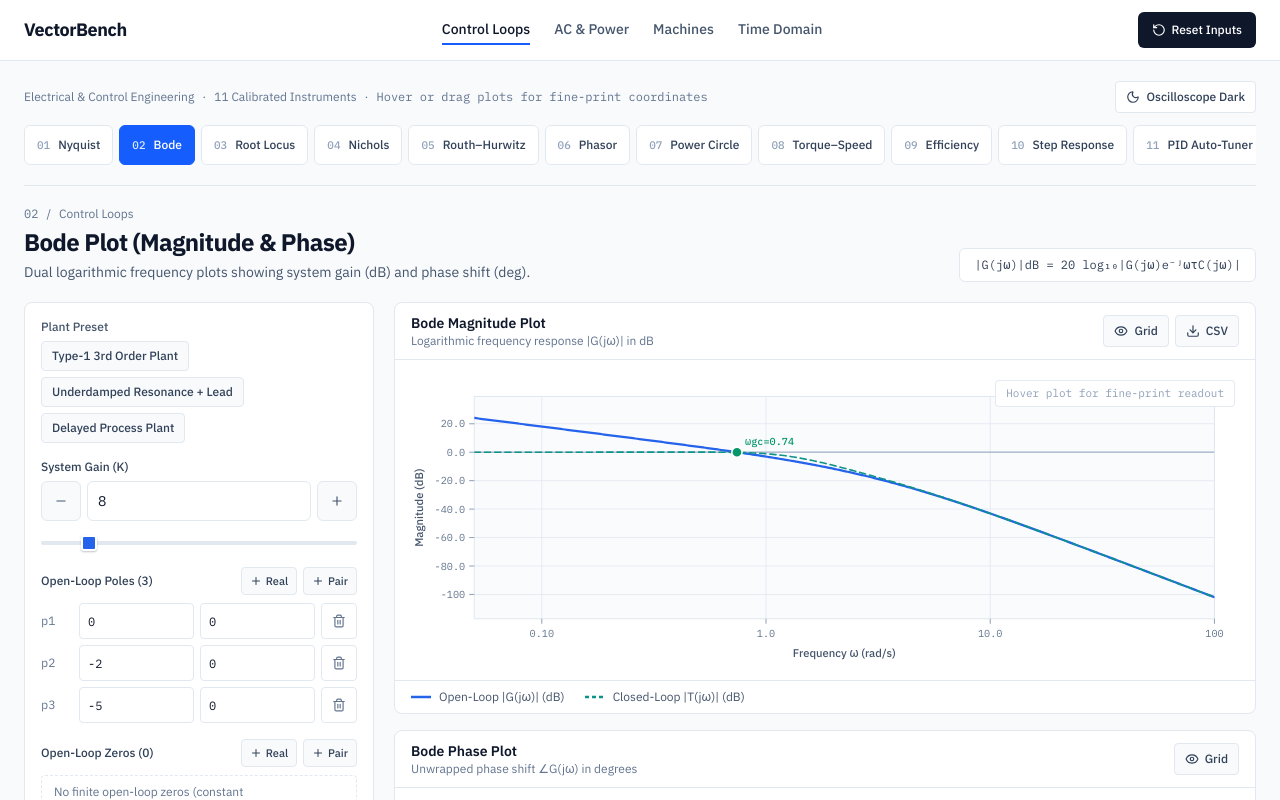
Test: VectorBench Engineering Workbench Integration › shows explicit error banner on invalid adversarial inputs without crashing (Red Pill)
# Default active is Bode Plot: set Gain K to -10
Replace the text in the number field labelled "System Gain (K)" with "-10" at (199, 501), box top-left (87, 481), bottom-right (311, 521)
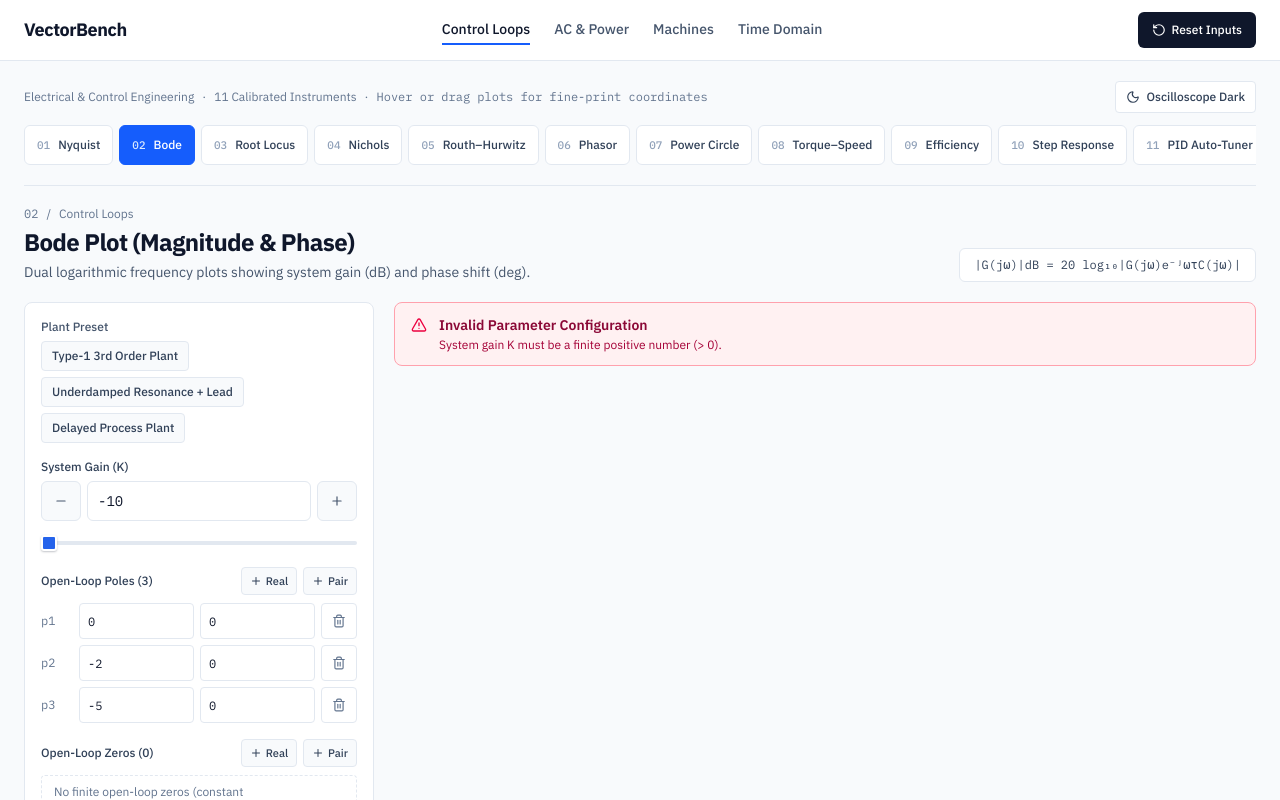
Expected: the message is shown, top-left (394, 302), bottom-right (1256, 366)
Expected: the message shows "positive", top-left (439, 337), bottom-right (722, 352)
# Reset Inputs button restores valid state
Click the button "Reset Inputs" at (1197, 30), box top-left (1138, 12), bottom-right (1256, 48)
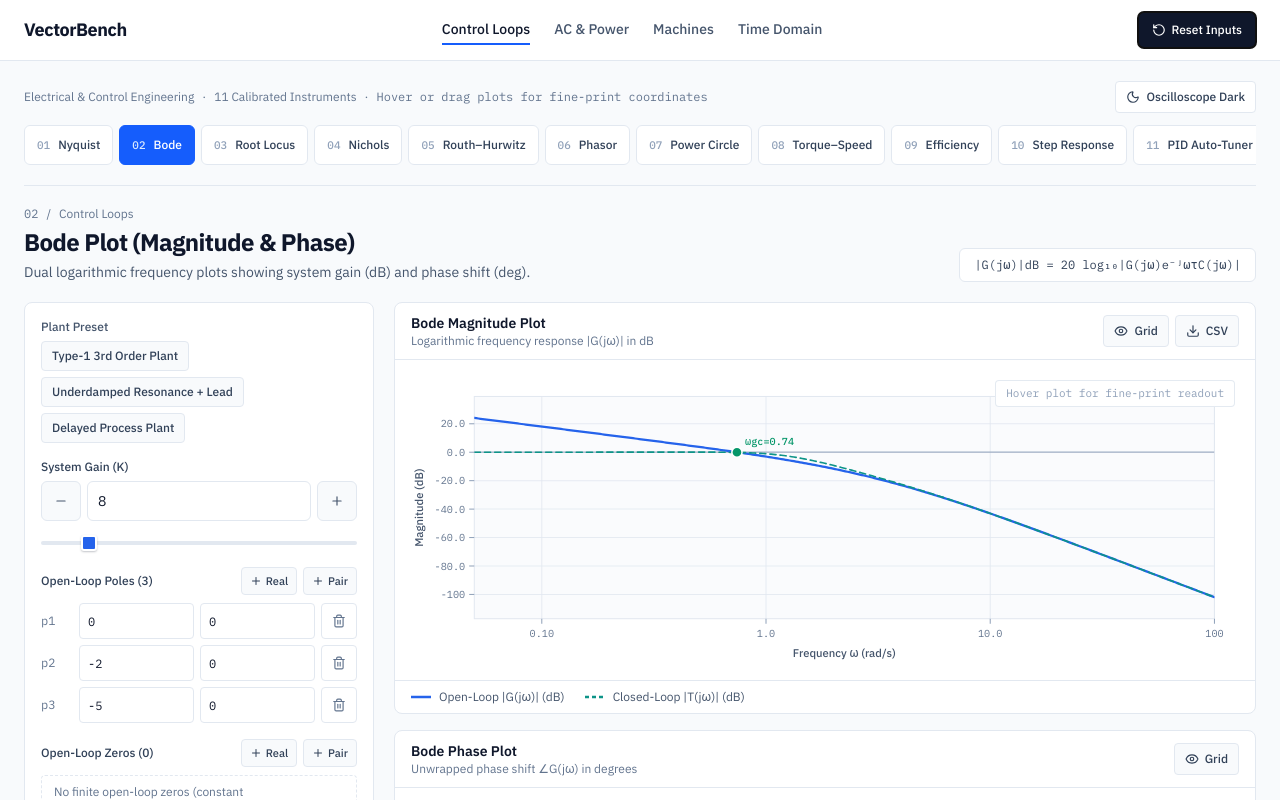
Expected: the message is gone
